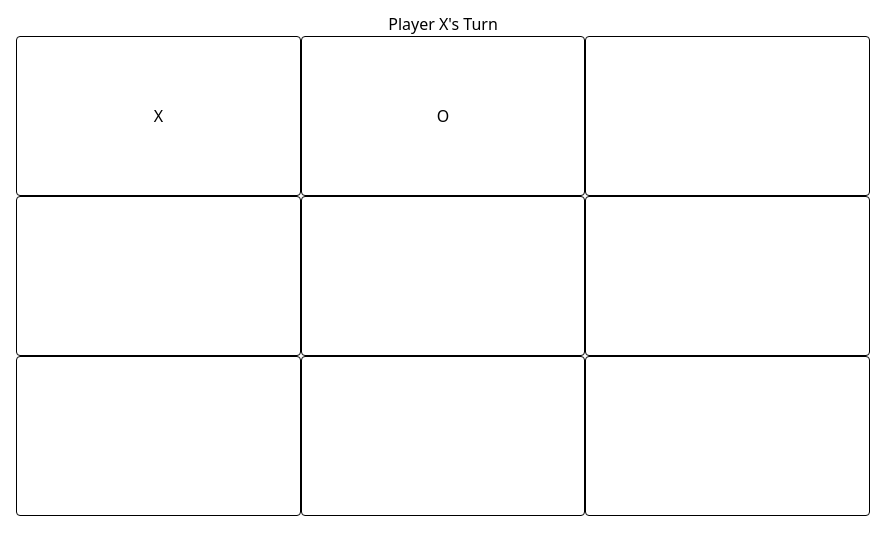
Scenario: Tic Tac Toe App › Correctly reports an X winner if a win condition is met
// Player X turn
Click the button titled "Position 0 square" at [158, 116], box [16,36,301,196]
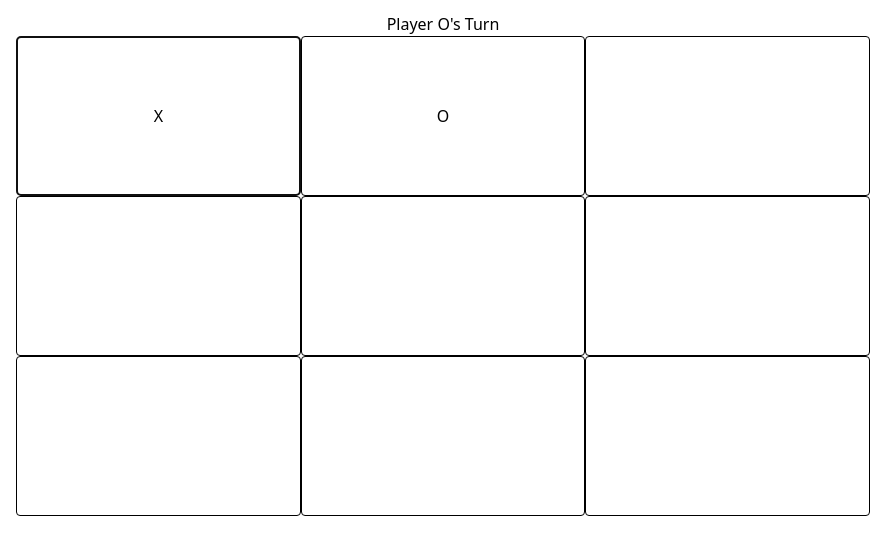
// Player O turn
Click the button titled "Position 3 square" at [158, 276], box [16,196,301,356]
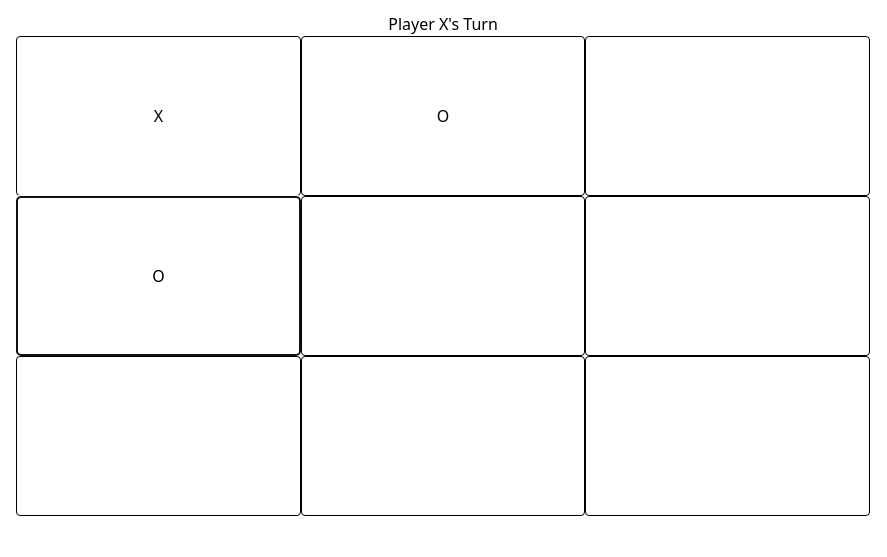
// Player X turn
Click the 1st button titled "Position 1 square" at [443, 116], box [301,36,585,196]
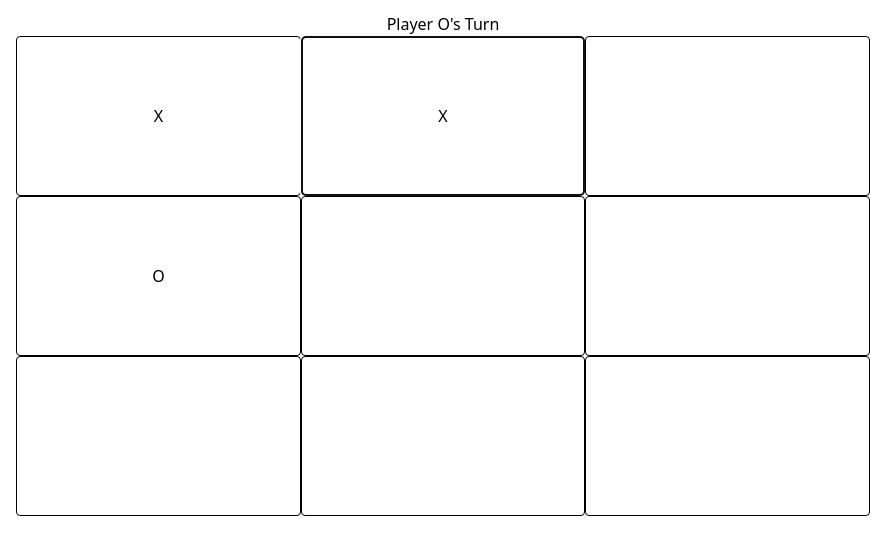
// PLayer O Turn
Click the button titled "Position 6 square" at [158, 436], box [16,356,301,516]
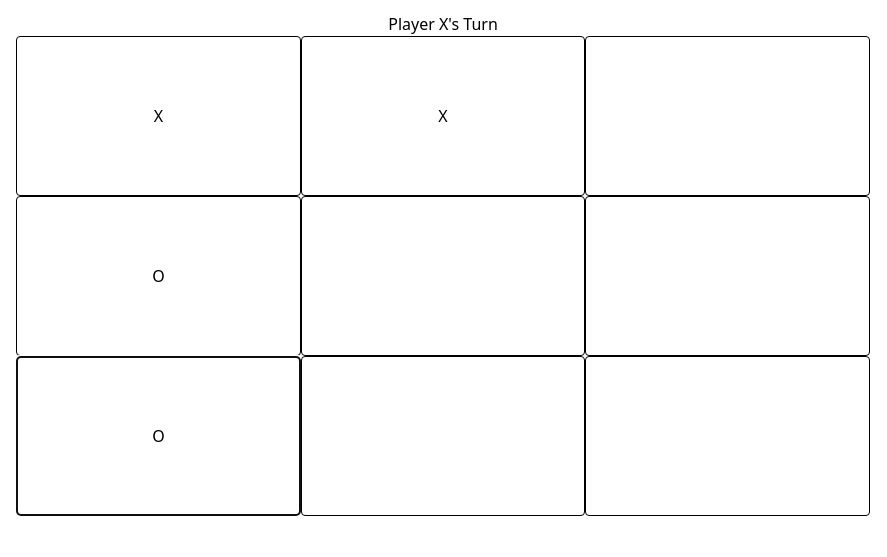
// Player X Turn -- should win here
Click the button titled "Position 2 square" at [727, 116], box [585,36,870,196]
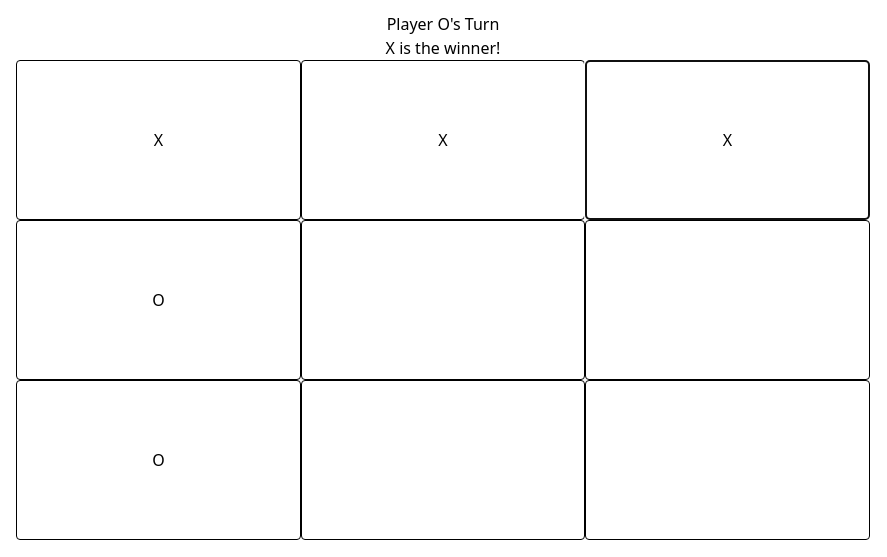
Expected: the text titled "Winner Display" reads "X is the winner!", [386,36,500,60]
